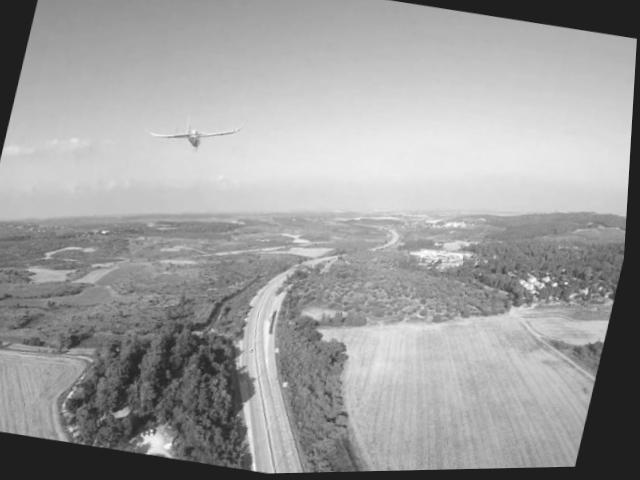hedef: (140, 100, 256, 174)
